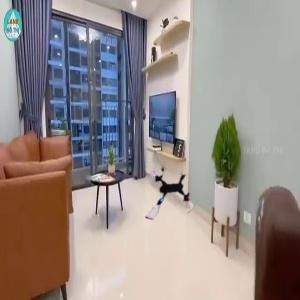drone: (137, 165, 200, 228)
